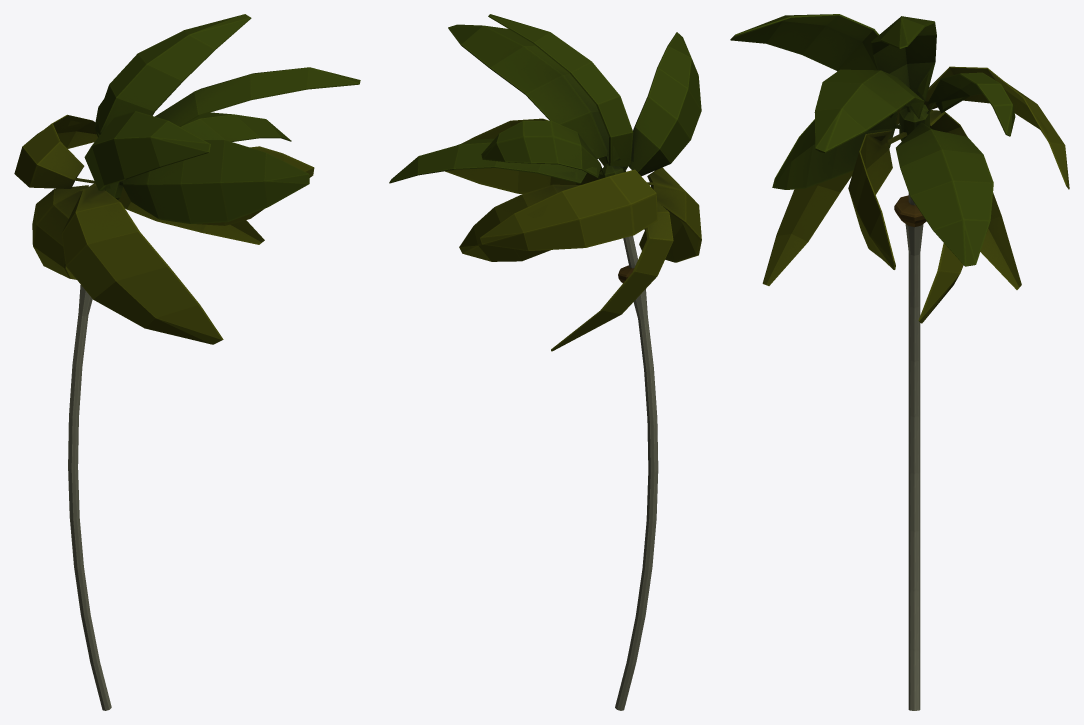
The model's file is HurricanePalmTree.obj.
3 renders of one model, left to right at view 1: azimuth 30°, elevation 25°; view 2: azimuth 150°, elevation 25°; view 3: azimuth 270°, elevation 25°, orthographic. The views are drawn at different scales.
Parts seen in each view (by area): view 1: HurricanePalmTree_mesh; view 2: HurricanePalmTree_mesh; view 3: HurricanePalmTree_mesh.
Boxes of the visible parts, x1,y1,x2,y2 form: HurricanePalmTree_mesh: (14,14,360,710); HurricanePalmTree_mesh: (389,14,701,710); HurricanePalmTree_mesh: (730,14,1069,710).
Size of the model in its own units: 12.07 by 27.77 by 11.55.
Materials: 1 (1 with a texture image).
